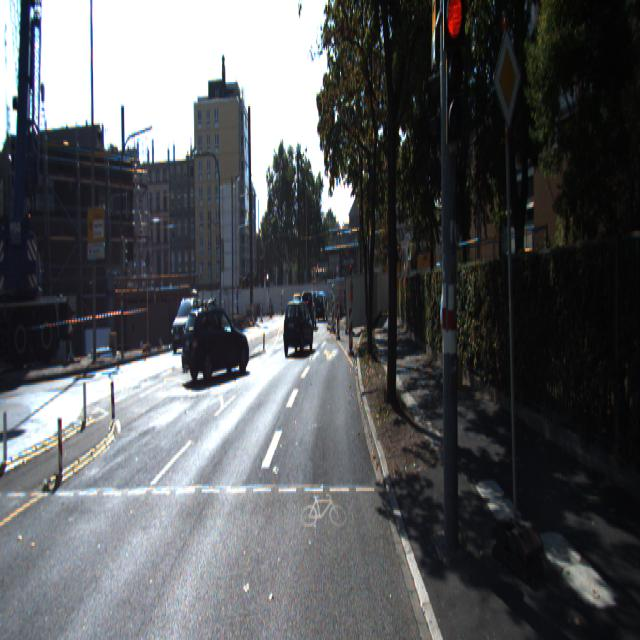Car: (178, 298, 250, 378), (170, 292, 205, 350), (281, 294, 314, 354), (291, 292, 305, 324)
